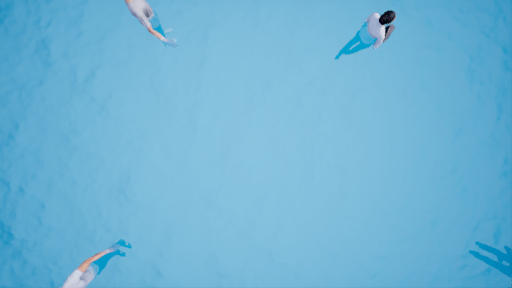person: (53, 236, 132, 288), (337, 4, 400, 69), (119, 1, 190, 57)
